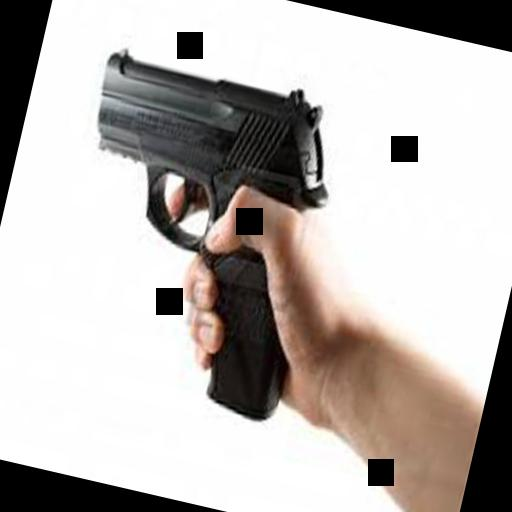Handgun: (28, 37, 356, 425)
